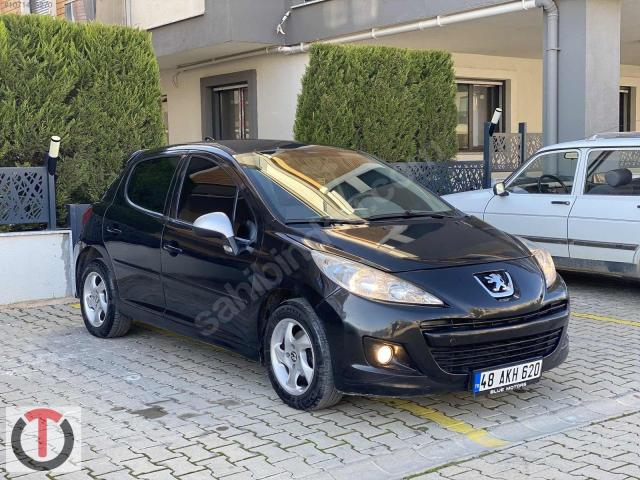plaka: (474, 360, 542, 392)
